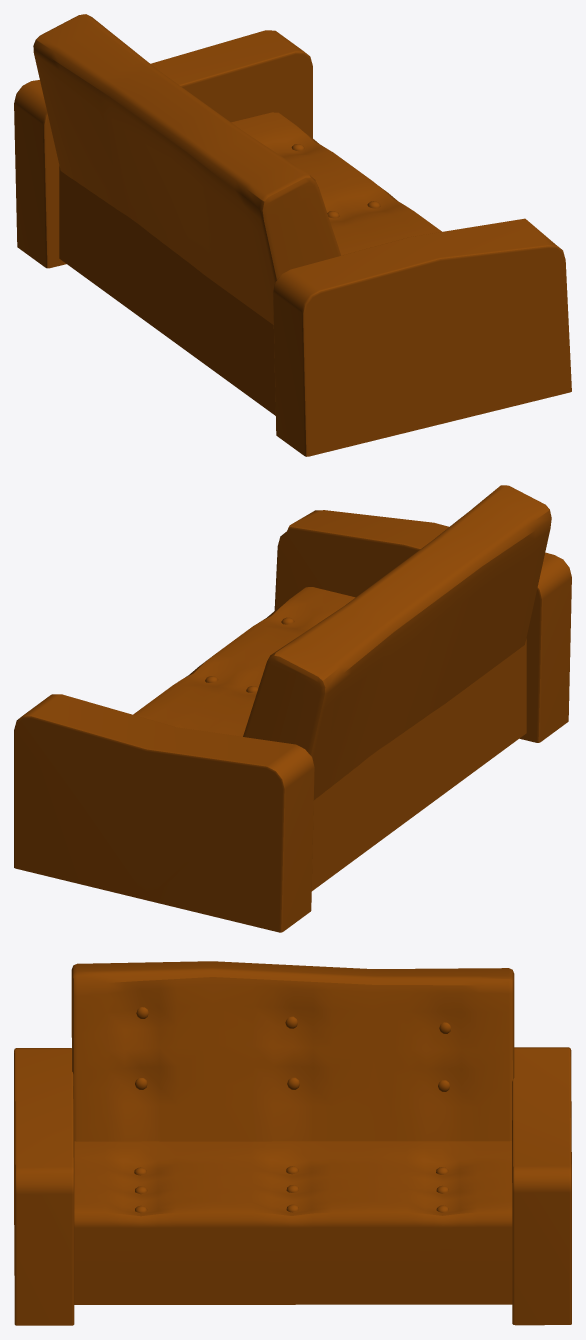
The model's file is sofá.fbx.
3 views of the same model, one above another, from view 1: azimuth 30°, elevation 25°; view 2: azimuth 150°, elevation 25°; view 3: azimuth 270°, elevation 25° (orthographic). The views are drawn at different scales.
Visible parts, largest first — view 1: polySurface70; view 2: polySurface70; view 3: polySurface70.
Part boxes in pixels (bbox=[...]): polySurface70: bbox=[14, 14, 571, 456]; polySurface70: bbox=[14, 485, 571, 932]; polySurface70: bbox=[14, 961, 571, 1325].
Bounding box in the file's own units: 104 × 88.54 × 184.
